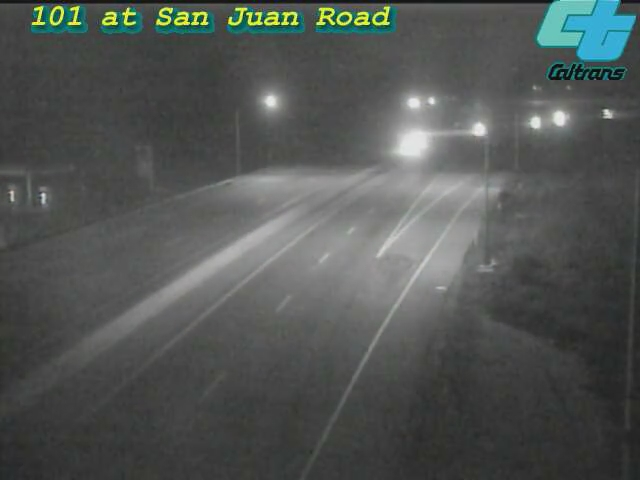vehicle: (582, 90, 632, 140), (384, 119, 434, 169), (453, 104, 503, 154), (509, 97, 559, 147), (532, 93, 582, 143)
